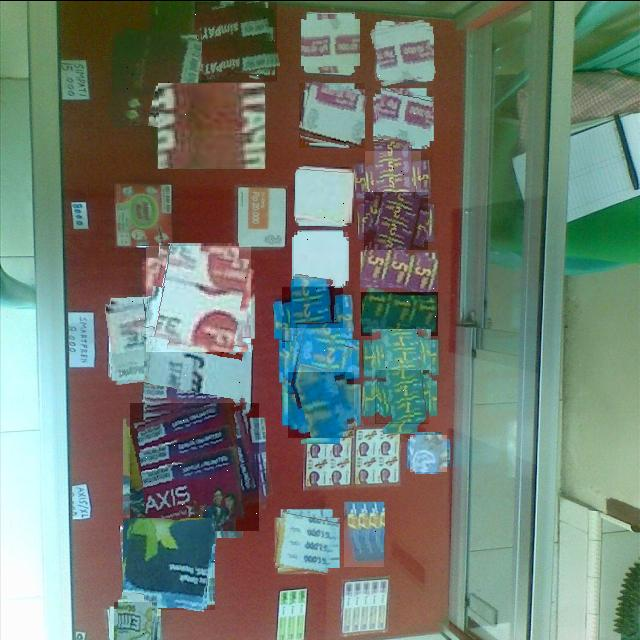Axis: (130, 402, 259, 530), (275, 509, 338, 573)
Gratis Nelpon: (123, 517, 215, 609), (344, 501, 384, 566)
Indosat-3: (285, 327, 352, 394), (288, 371, 354, 437), (299, 82, 365, 147), (364, 191, 428, 254), (372, 21, 434, 82), (282, 286, 343, 347), (372, 328, 431, 387), (361, 291, 438, 335), (360, 249, 438, 291), (375, 89, 432, 146), (365, 150, 421, 207), (296, 168, 352, 224), (372, 370, 428, 426), (294, 231, 348, 285), (304, 15, 357, 69), (410, 434, 447, 471)
SimpaTI: (158, 82, 265, 168), (112, 29, 202, 126), (195, 1, 277, 81)
im3: (114, 601, 157, 640)
smartfren: (146, 245, 251, 351), (144, 333, 251, 415), (108, 294, 195, 382)
